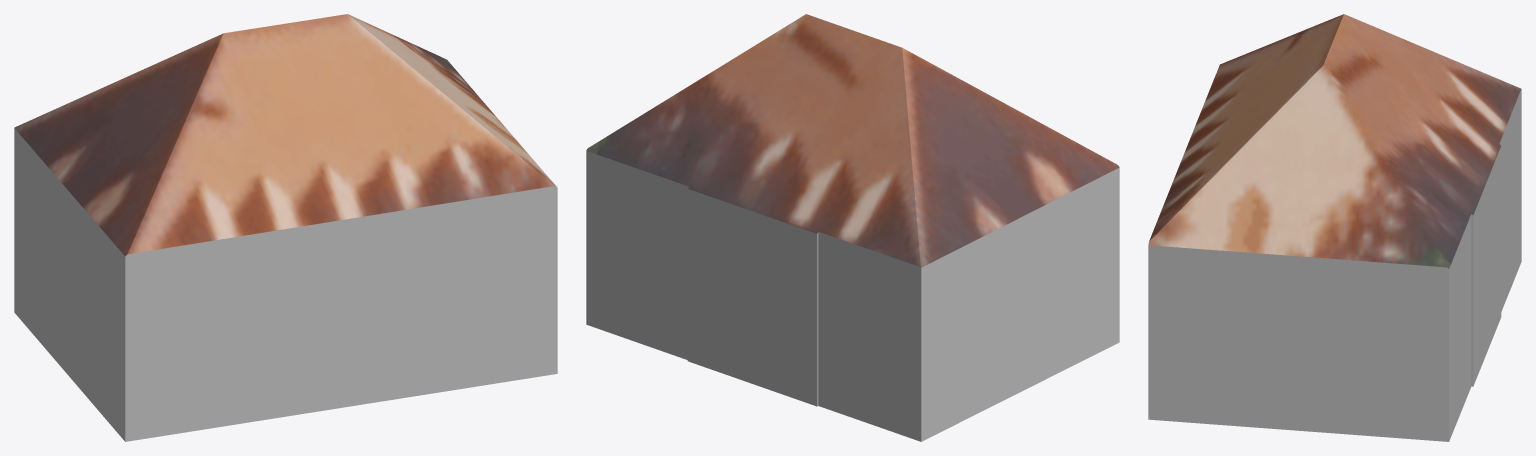
File: DEBW_0010007Txb8.gltf
The picture shows the model from 3 angles, left to right: view 1: azimuth 30°, elevation 25°; view 2: azimuth 150°, elevation 25°; view 3: azimuth 270°, elevation 25°; orthographic projection. The views are drawn at different scales.
Parts seen in each view (by area): view 1: Z_UP; view 2: Z_UP; view 3: Z_UP.
Boxes of the visible parts, x1,y1,x2,y2 form: Z_UP: [14, 14, 557, 441]; Z_UP: [586, 14, 1119, 441]; Z_UP: [1148, 14, 1521, 441].
Size of the model in its own units: 22.98 by 15.88 by 17.87.
Materials: 2 (1 with a texture image).
